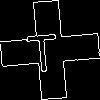T: (25, 25, 60, 73)
